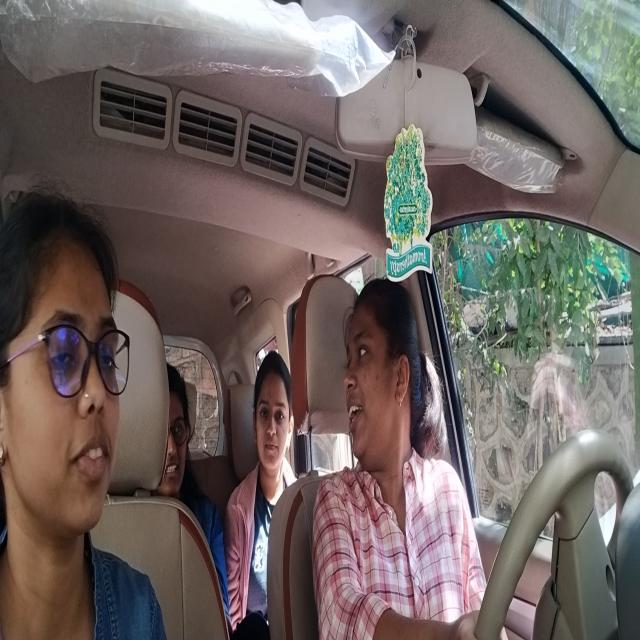LeftRight: (338, 271, 430, 469)
person: (11, 203, 128, 535), (256, 348, 296, 468), (162, 375, 190, 492)
talking: (342, 401, 365, 431)
